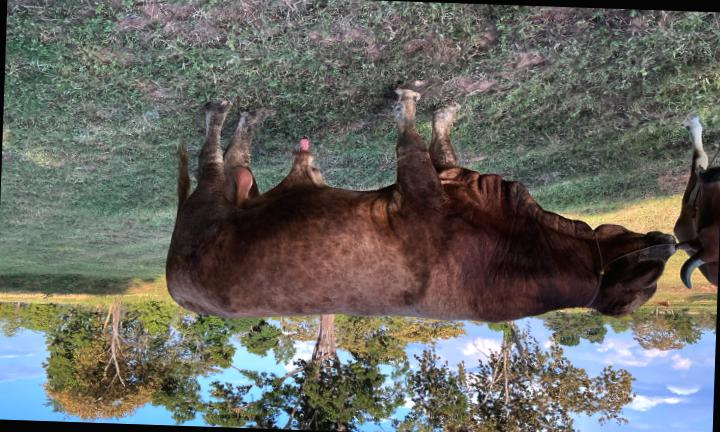Charolais: (166, 82, 675, 322)
